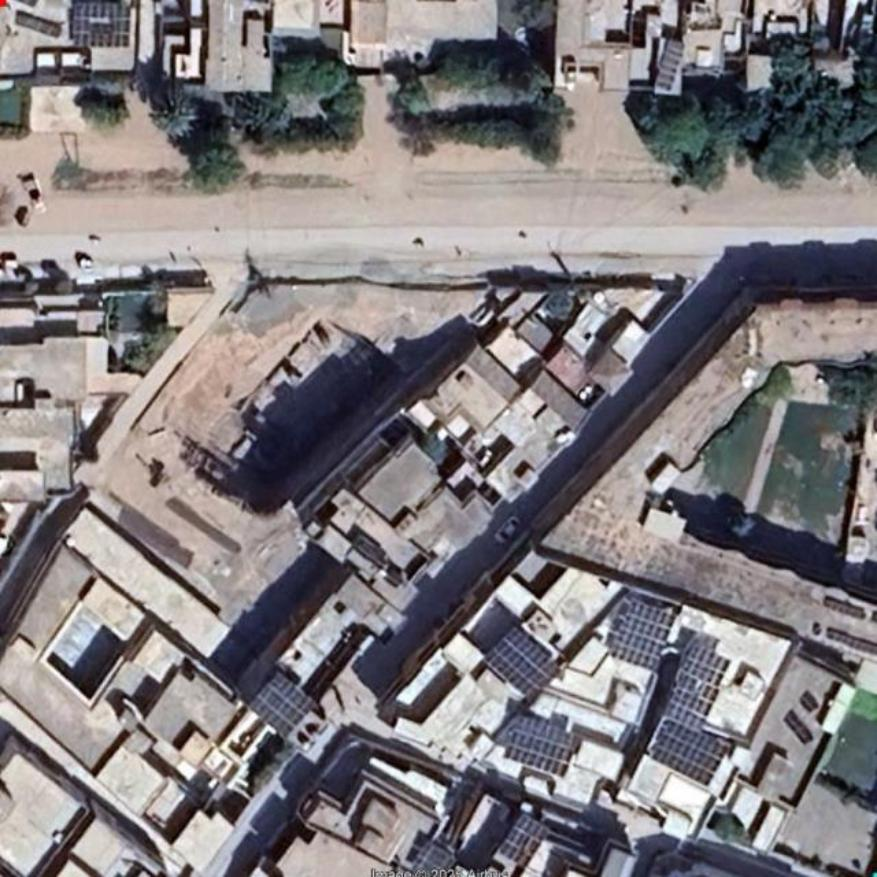Solarpanel: (666, 639, 731, 729), (494, 620, 568, 692), (653, 716, 728, 785), (505, 719, 584, 781), (248, 674, 318, 737), (610, 605, 668, 674), (496, 812, 551, 868), (71, 0, 136, 47), (654, 35, 687, 89), (405, 846, 451, 876)
